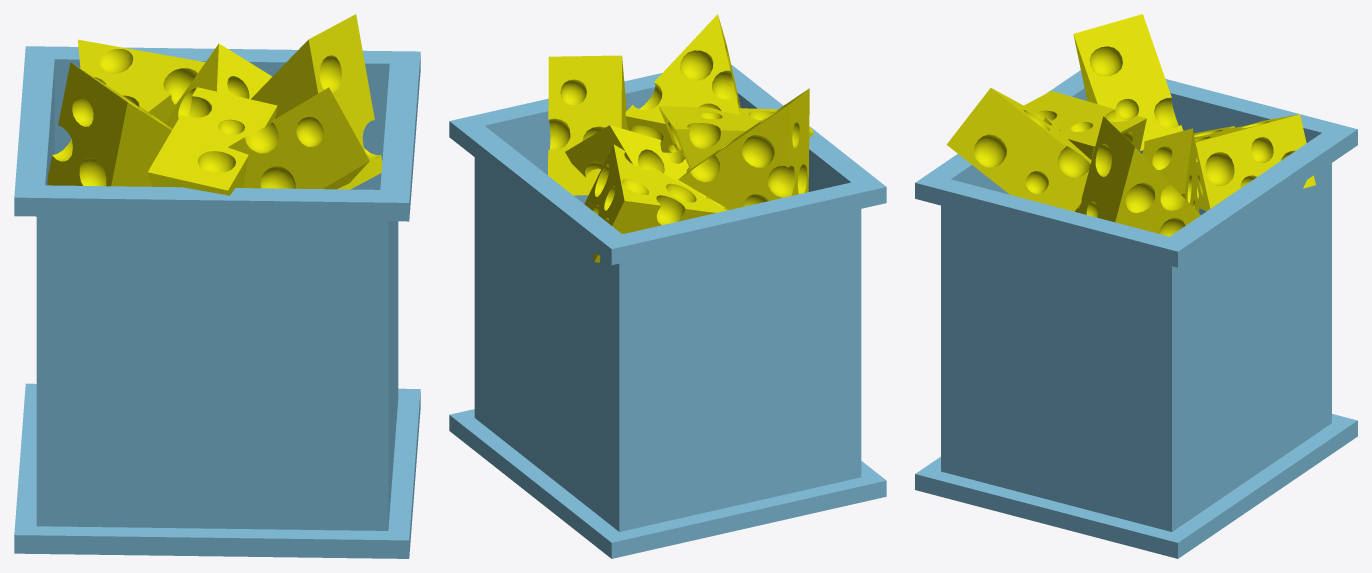
Rendered from ColeccionQuesos.fbx.
3 views of the same model, side by side, from view 1: azimuth 30°, elevation 25°; view 2: azimuth 150°, elevation 25°; view 3: azimuth 270°, elevation 25° (orthographic). The views are drawn at different scales.
Parts seen in each view (by area): view 1: polySurface66; view 2: polySurface66; view 3: polySurface66.
Part boxes in pixels (x1,y1,x2,y2): polySurface66: (14, 14, 420, 558); polySurface66: (449, 14, 886, 558); polySurface66: (915, 14, 1357, 558).
Bounding box in the file's own units: 9.17 × 8.68 × 8.96.
